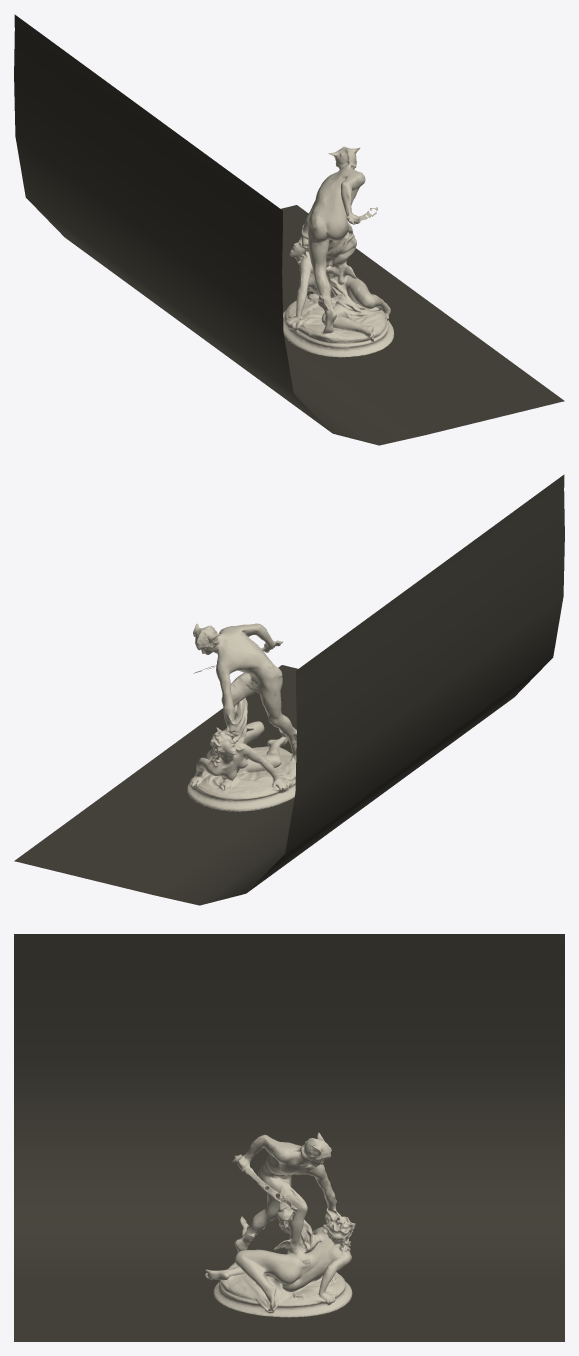
Rendered from persues-lowpoly-wbg.fbx.
The picture shows the model from 3 angles, top to bottom: view 1: azimuth 30°, elevation 25°; view 2: azimuth 150°, elevation 25°; view 3: azimuth 270°, elevation 25°; orthographic projection. The views are drawn at different scales.
Visible parts, largest first — view 1: pPlane1, persew_lowpoly:Mesh; view 2: pPlane1, persew_lowpoly:Mesh; view 3: pPlane1, persew_lowpoly:Mesh.
Boxes of the visible parts, x1=… form: pPlane1: x1=14, y1=14, x2=564, y2=445; persew_lowpoly:Mesh: x1=283, y1=146, x2=394, y2=357; pPlane1: x1=14, y1=474, x2=564, y2=905; persew_lowpoly:Mesh: x1=187, y1=623, x2=296, y2=811; pPlane1: x1=14, y1=934, x2=564, y2=1341; persew_lowpoly:Mesh: x1=205, y1=1132, x2=355, y2=1317.
Size of the model in its own units: 47.39 by 41.51 by 77.79.
